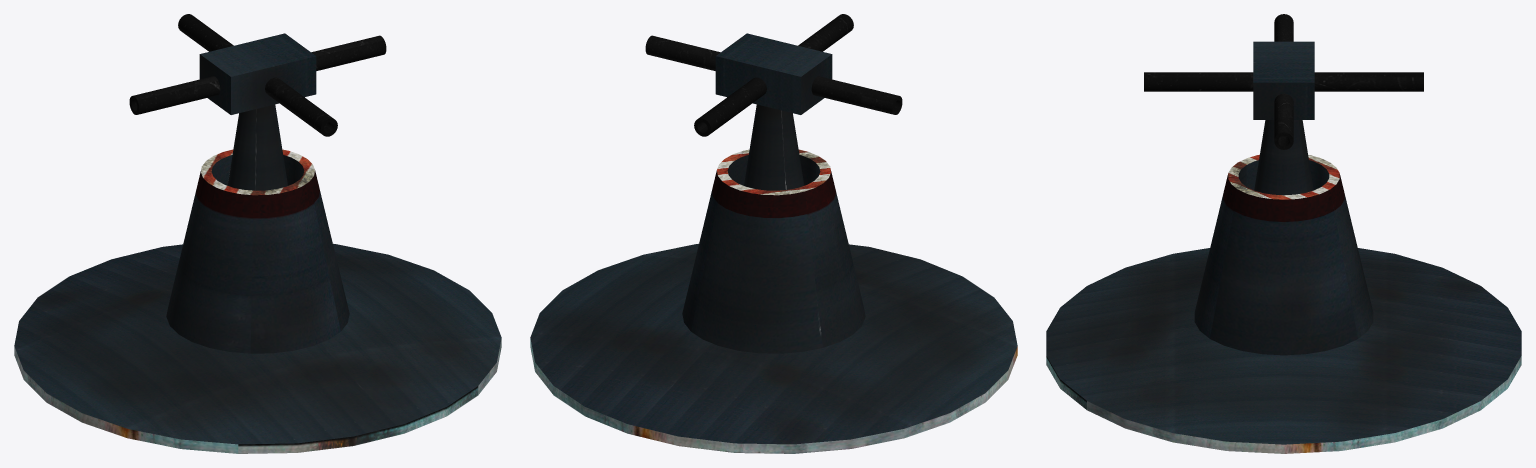
File: towerC_red.fbx
The picture shows the model from 3 angles, left to right: view 1: azimuth 30°, elevation 25°; view 2: azimuth 150°, elevation 25°; view 3: azimuth 270°, elevation 25°; orthographic projection.
Visible parts, largest first — view 1: polySurface1; view 2: polySurface1; view 3: polySurface1.
Part boxes in pixels (left/top/right/bottom): polySurface1: left=14, top=14, right=501, bottom=453; polySurface1: left=530, top=14, right=1017, bottom=453; polySurface1: left=1046, top=14, right=1521, bottom=453.
Bounding box in the file's own units: 30.16 × 20.21 × 29.94.
Materials: 1 (1 with a texture image).
